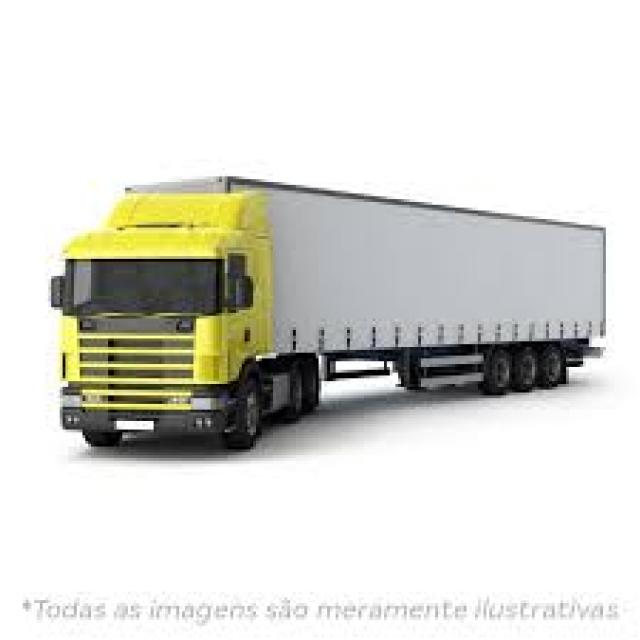truck: (36, 122, 628, 488)
